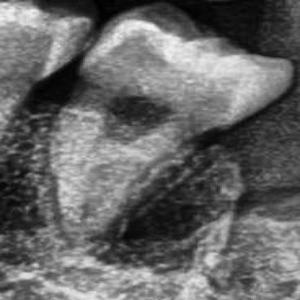tooth: (41, 2, 292, 253)
